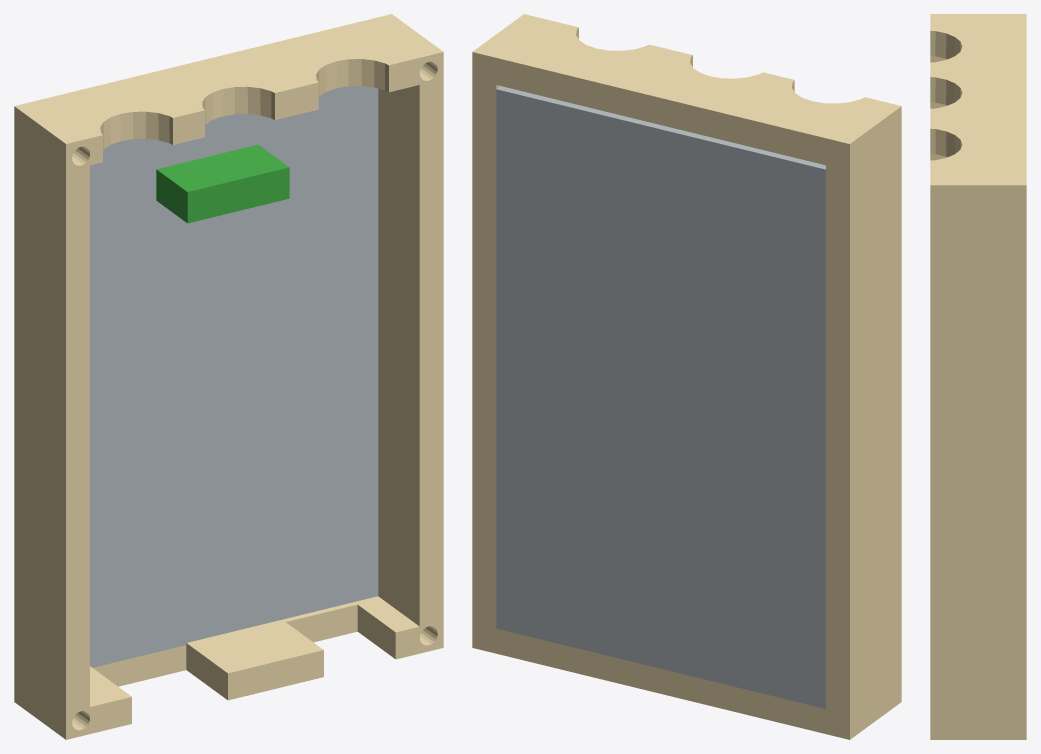
The model's file is arduinocase-bottom.obj.
The picture shows the model from 3 angles, left to right: view 1: azimuth 30°, elevation 25°; view 2: azimuth 150°, elevation 25°; view 3: azimuth 270°, elevation 25°; orthographic projection. The views are drawn at different scales.
Parts seen in each view (by area): view 1: group_0_12568524, group_0_16311991, group_0_4634441; view 2: group_0_12568524, group_0_16311991; view 3: group_0_16311991.
Boxes of the visible parts, x1,y1,x2,y2 form: group_0_12568524: (90,86,378,667); group_0_16311991: (14,14,443,739); group_0_4634441: (156,144,289,223); group_0_12568524: (496,86,825,708); group_0_16311991: (472,14,901,739); group_0_16311991: (930,14,1026,739).
Bounding box in the file's own units: 63 × 95 × 15.
